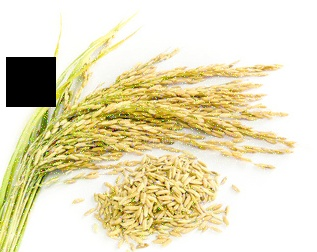rice: (23, 47, 288, 188)
